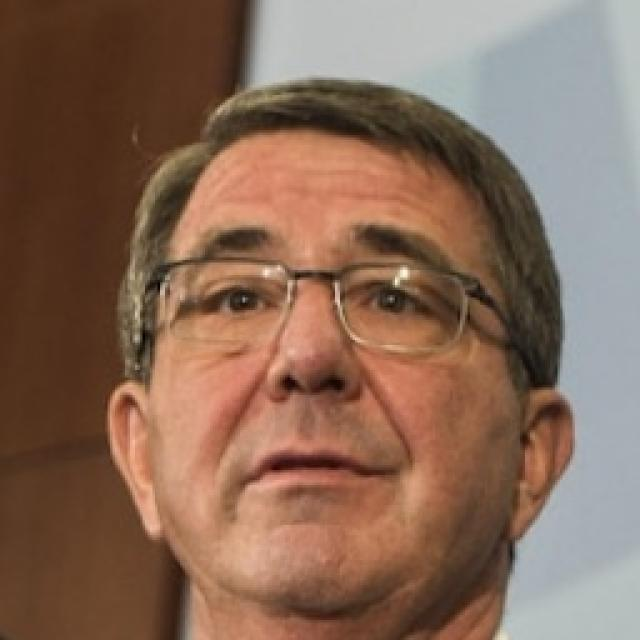glasses: (139, 238, 533, 390)
